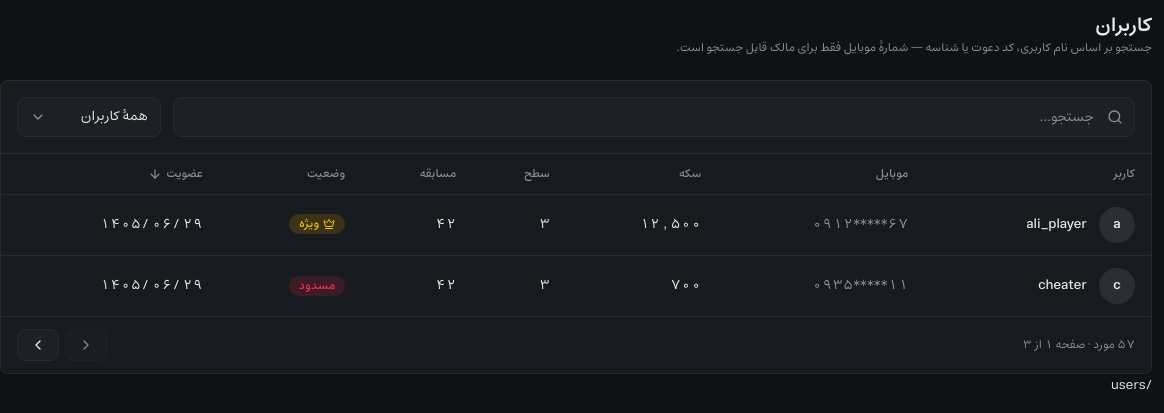
Test: Users page › debounces typing into ?q=
Expected: the text "ali_player" is shown, [1026, 215, 1087, 235]
Type "cheat" into the field named "جستجوی کاربر" at (654, 117), box [173, 97, 1135, 137]
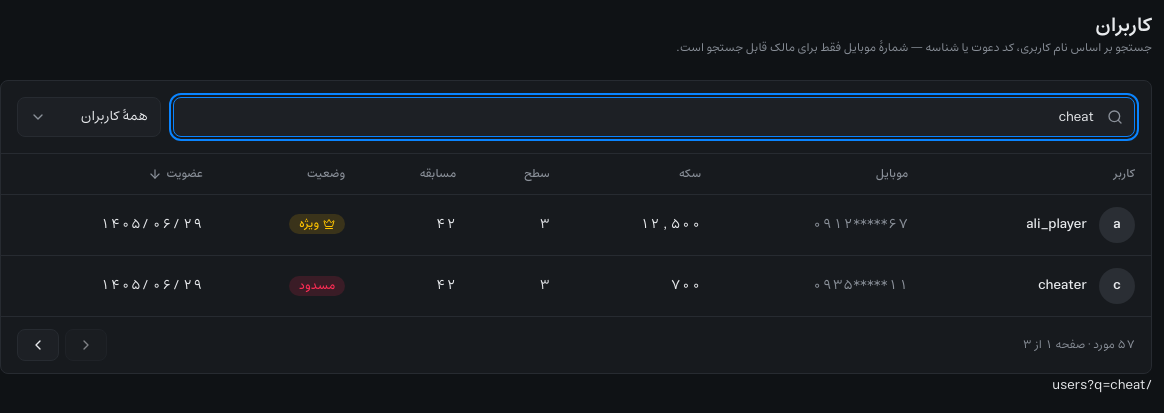
Expected: the text with test id "where" reads "/users?q=cheat", [1052, 375, 1152, 396]
